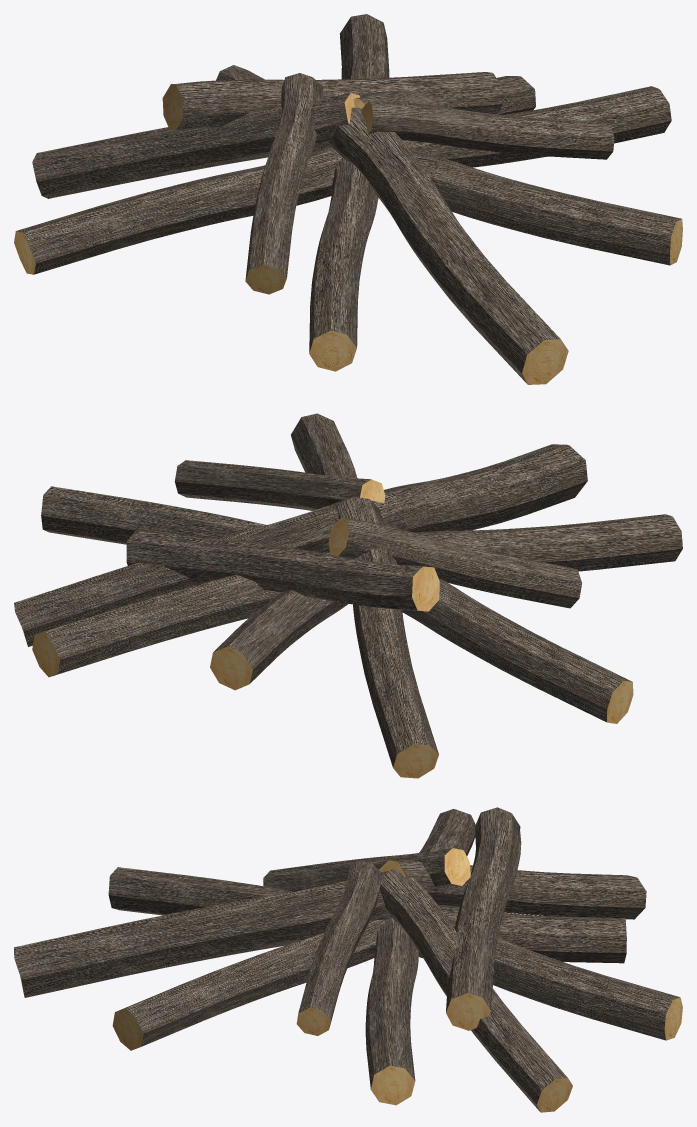
File: bonfire.fbx
The picture shows the model from 3 angles, top to bottom: view 1: azimuth 30°, elevation 25°; view 2: azimuth 150°, elevation 25°; view 3: azimuth 270°, elevation 25°; orthographic projection. The views are drawn at different scales.
Parts seen in each view (by area): view 1: pCube13; view 2: pCube13; view 3: pCube13.
Boxes of the visible parts, x1,y1,x2,y2 form: pCube13: (14, 14, 682, 384); pCube13: (14, 413, 682, 778); pCube13: (14, 807, 682, 1112).
Bounding box in the file's own units: 11 × 2.64 × 11.16.
Materials: 2 (2 with a texture image).
